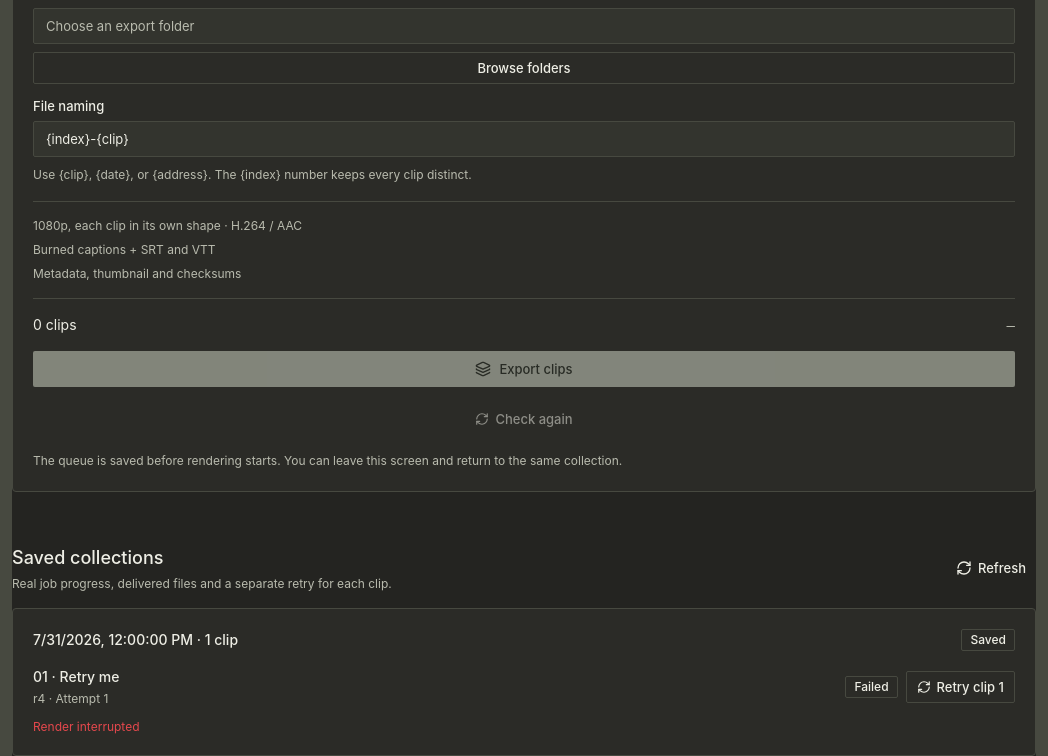
Test: follows a retry persisted as pending until the new job is queued
The width and height of the screenshot is (1048, 756).
(page scrolled)
What coordinates should you click on to do the following:
click the button "Retry clip 1"
I would click on:
 (960, 687)
Its box is x1=906 y1=671 x2=1015 y2=703.
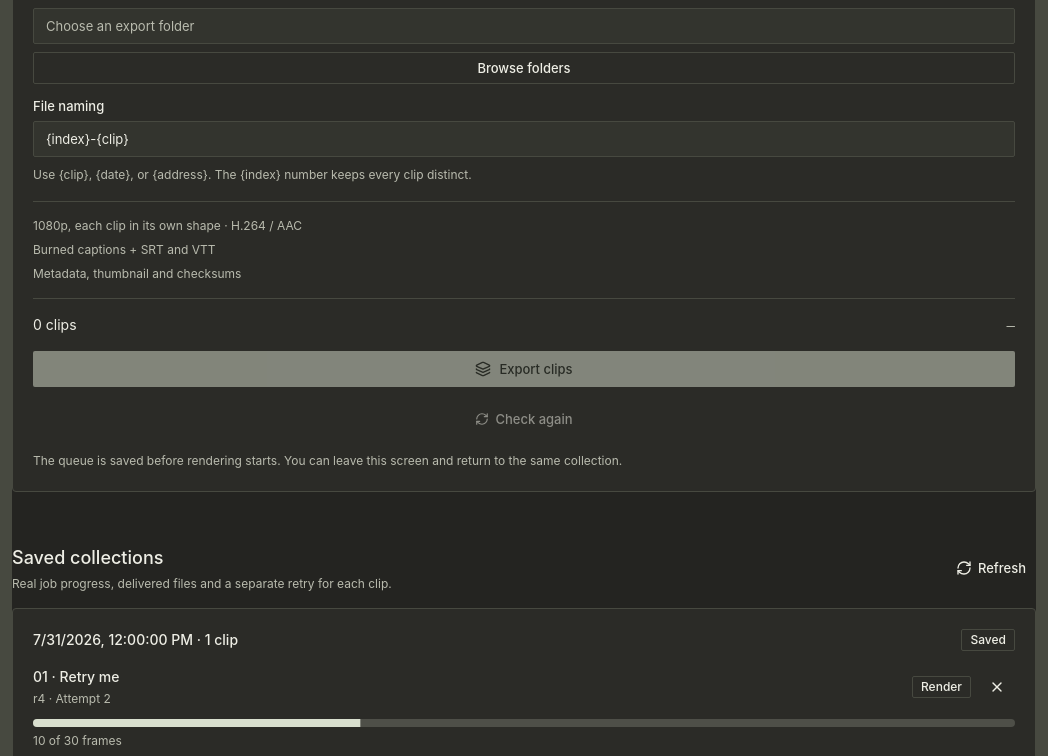
Expected: the text "Preparing" is shown, x1=912 y1=676 x2=971 y2=698
Now the text "10 of 30 frames" is shown, box x1=33 y1=733 x2=122 y2=748
